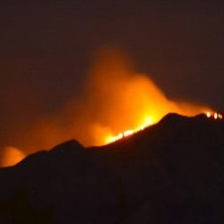fire: (105, 116, 154, 144), (203, 111, 222, 121)
